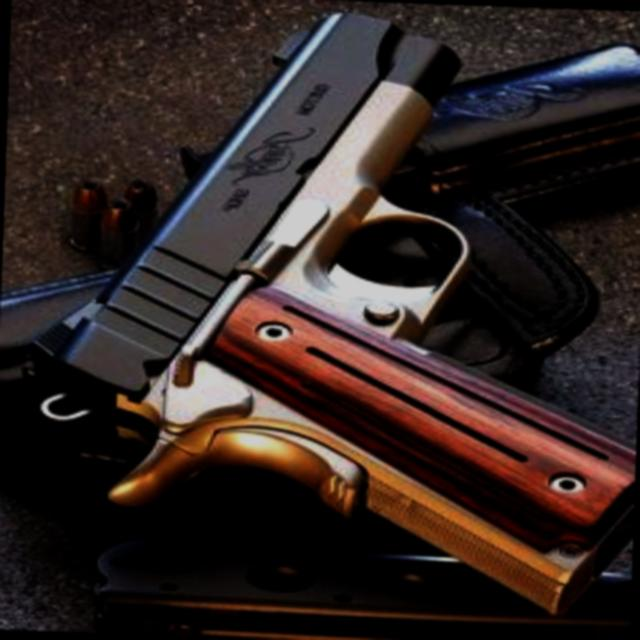semi automatic: (23, 0, 640, 620)
